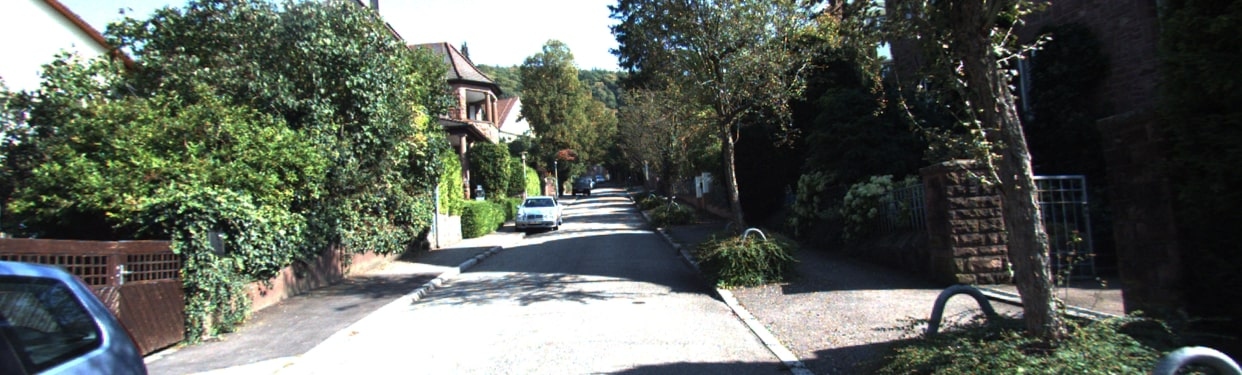car: (516, 194, 564, 235), (569, 177, 590, 198)
